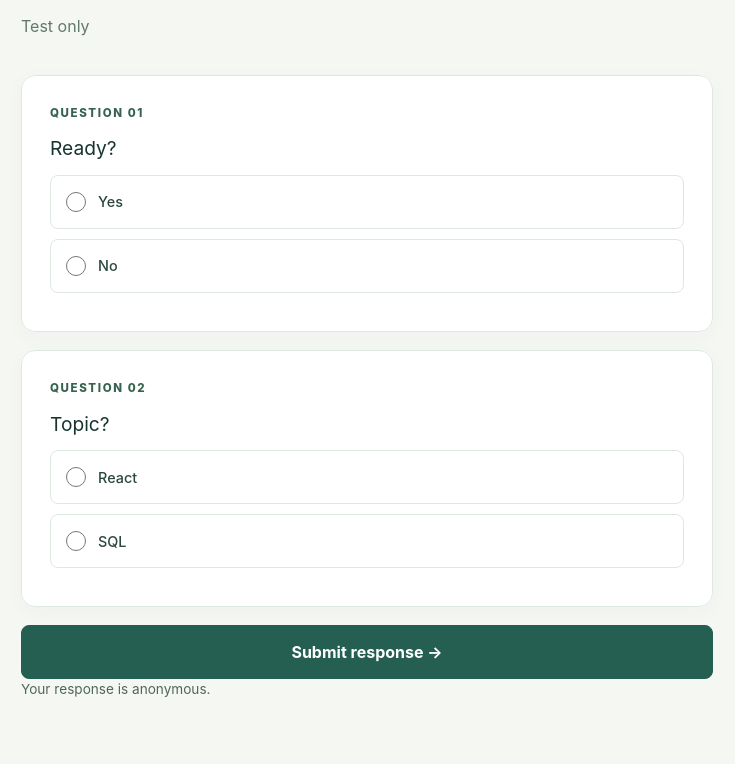
it: student survey › rejects missing answers without making a submission
The image size is (735, 764).
(page scrolled)
Click the button "Submit response →": click(367, 652) [21,625,713,679]
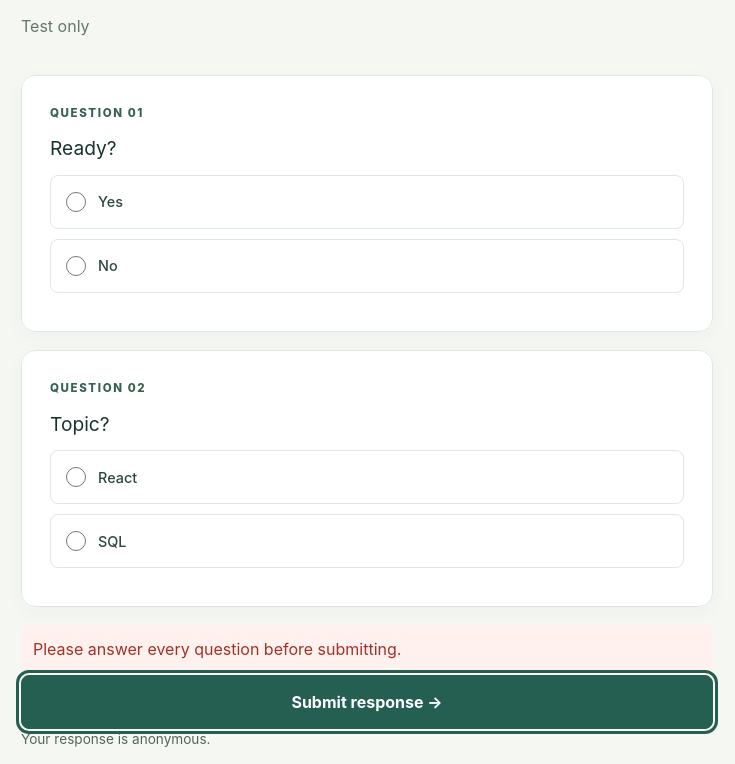
Check: the message shows "answer every question", box [33,639,401,659]
